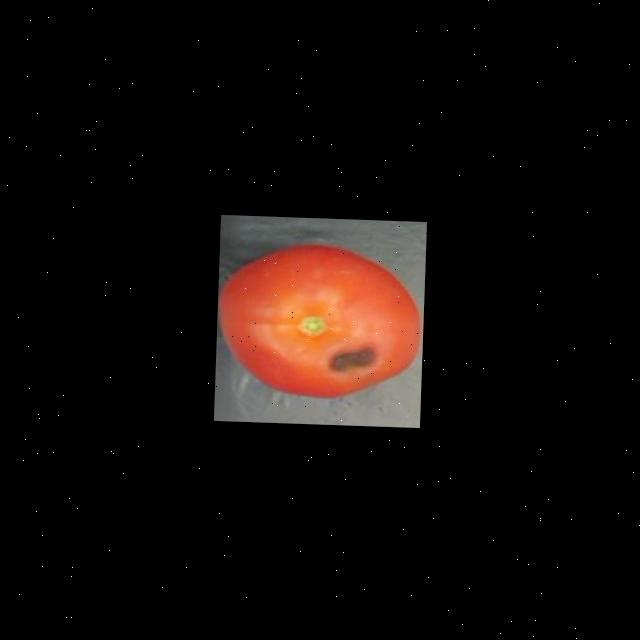tomato: (214, 232, 426, 404)
